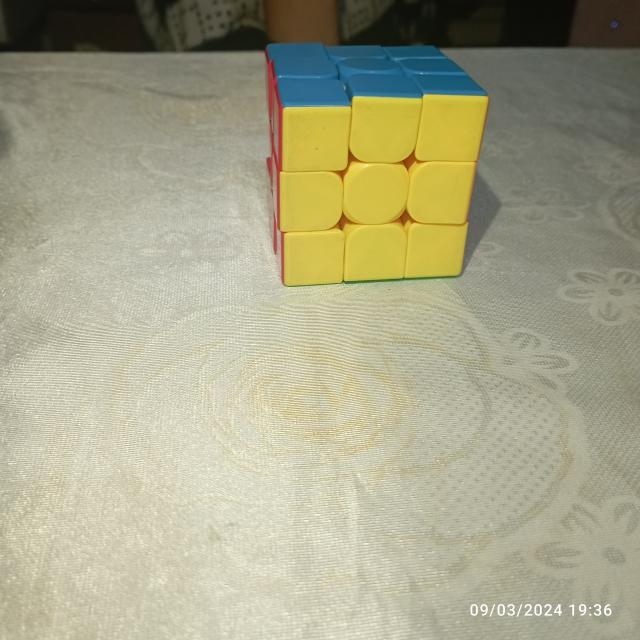Rub: (254, 40, 490, 294)
